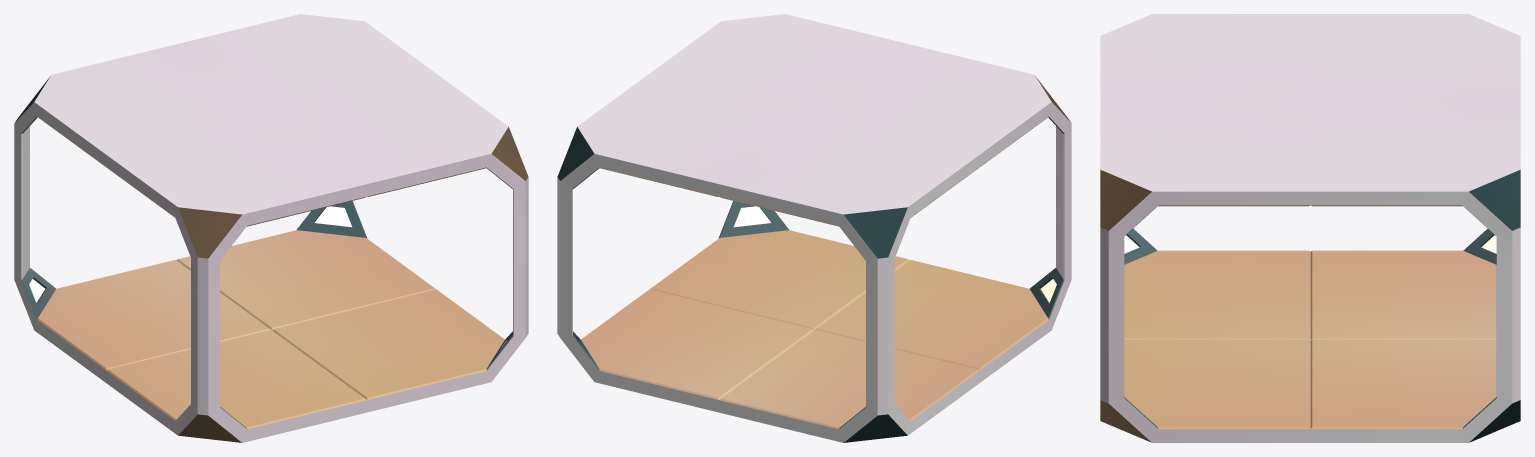
Rendered from C_4_branch.fbx.
The picture shows the model from 3 angles, left to right: view 1: azimuth 30°, elevation 25°; view 2: azimuth 150°, elevation 25°; view 3: azimuth 270°, elevation 25°; orthographic projection. The views are drawn at different scales.
Parts seen in each view (by area): view 1: C_4_branch; view 2: C_4_branch; view 3: C_4_branch.
Boxes of the visible parts, x1=… form: C_4_branch: x1=14, y1=14, x2=528, y2=442; C_4_branch: x1=557, y1=14, x2=1071, y2=442; C_4_branch: x1=1100, y1=14, x2=1520, y2=442.
Bounding box in the file's own units: 500 × 330 × 500.
